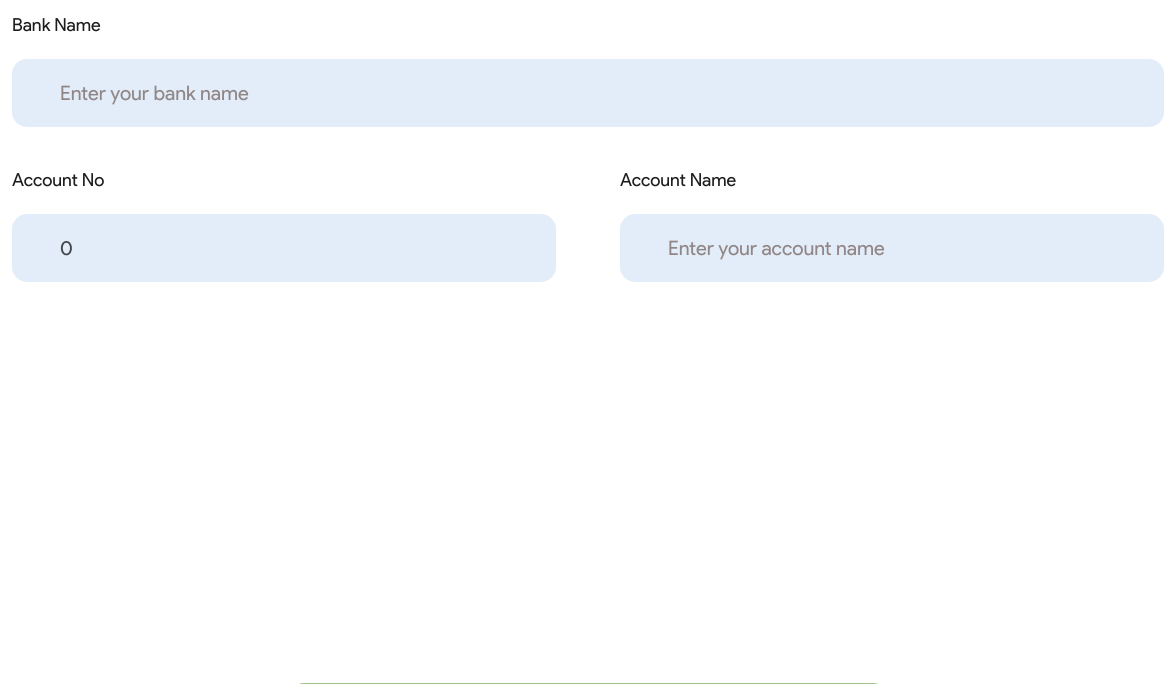
Test: FinancialForm Component › should show error message fields
Clear the number field with placeholder "Enter your account number" at (284, 248), box [12,214,556,282]
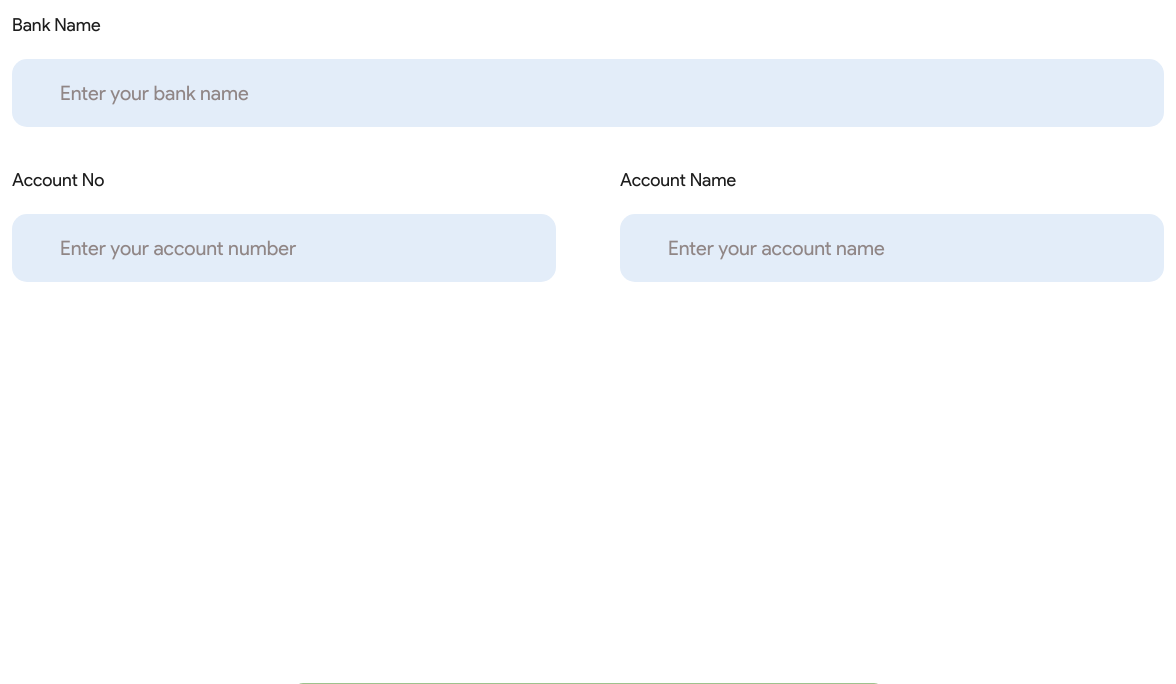
Leave the field with placeholder "Enter your account name", box [620,214,1164,282]
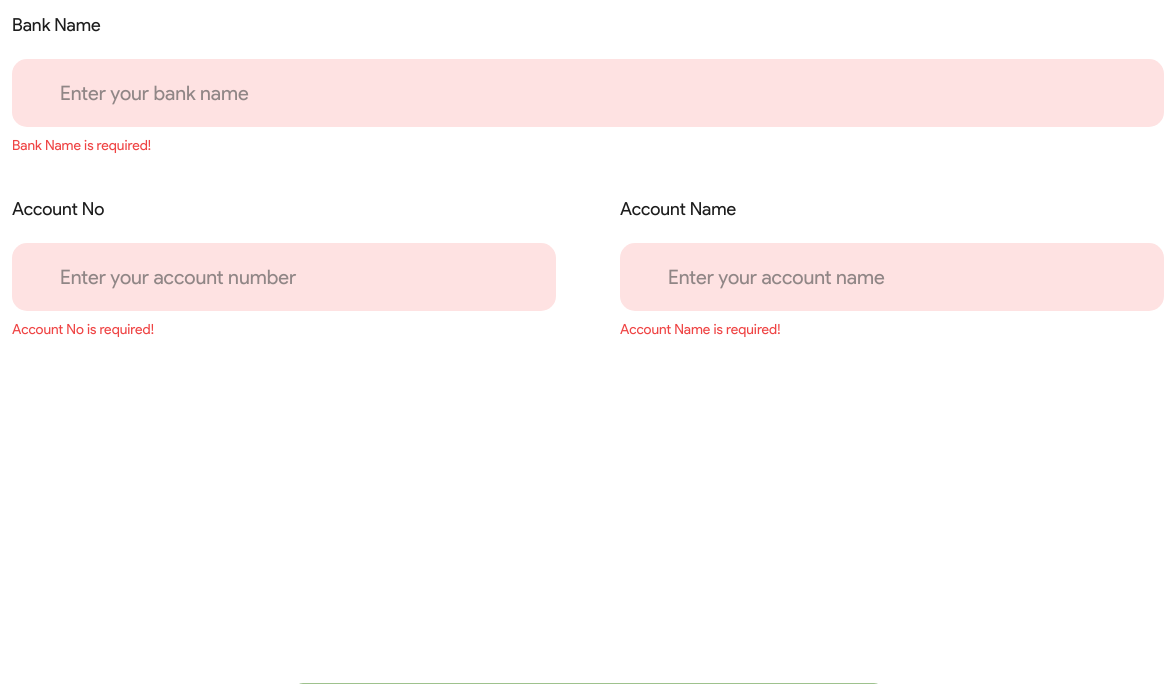
Check: the text "Bank Name is required!" is shown, box [12,137,151,154]
Check: the text "Account No is required!" is shown, box [12,321,154,338]
Check: the text "Account Name is required!" is shown, box [620,321,780,338]
